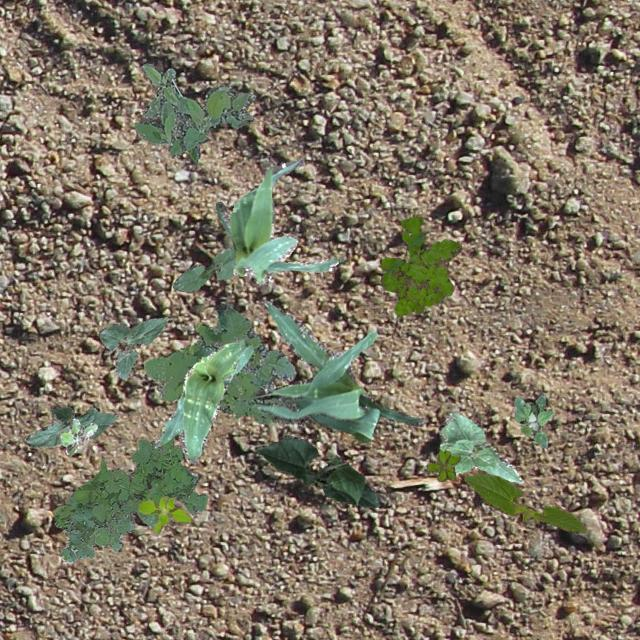crop: (250, 298, 423, 441), (214, 156, 338, 284), (154, 338, 252, 462), (255, 434, 378, 506), (464, 469, 586, 532), (438, 412, 520, 482), (98, 316, 168, 378), (24, 404, 118, 446), (172, 246, 236, 292)
weed: (54, 434, 206, 562), (142, 302, 294, 422), (133, 61, 254, 160), (380, 214, 460, 314), (512, 394, 552, 446), (136, 496, 190, 532), (59, 418, 96, 457), (426, 450, 460, 480)
